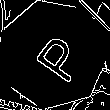P_NW: (21, 25, 84, 84)
